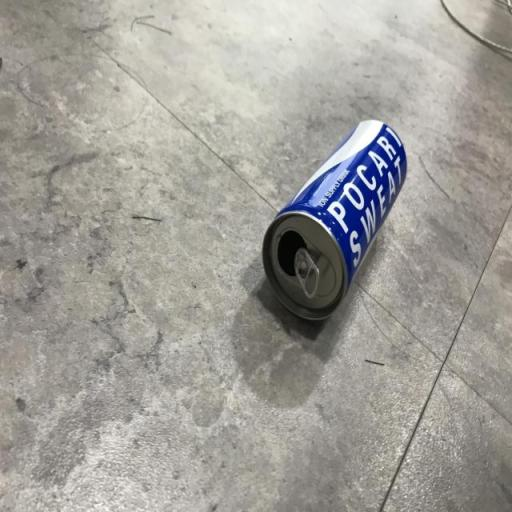metal: (249, 112, 433, 346)
